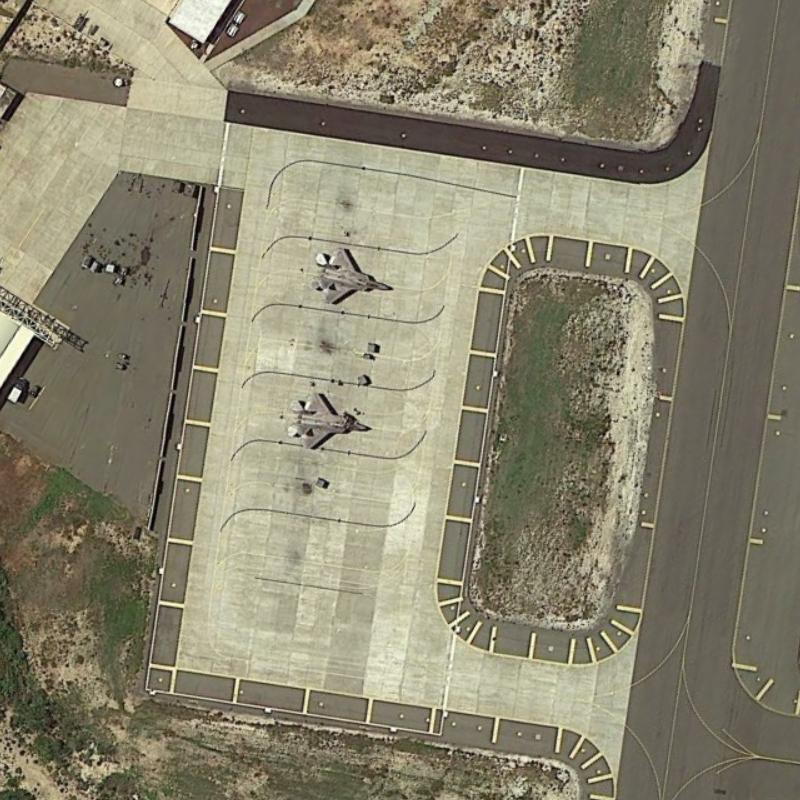A15: (280, 387, 373, 456), (303, 241, 394, 309)
